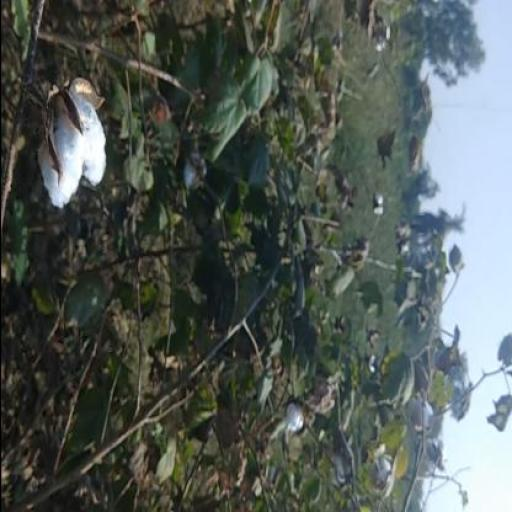cotton_ready: (21, 9, 122, 211)
